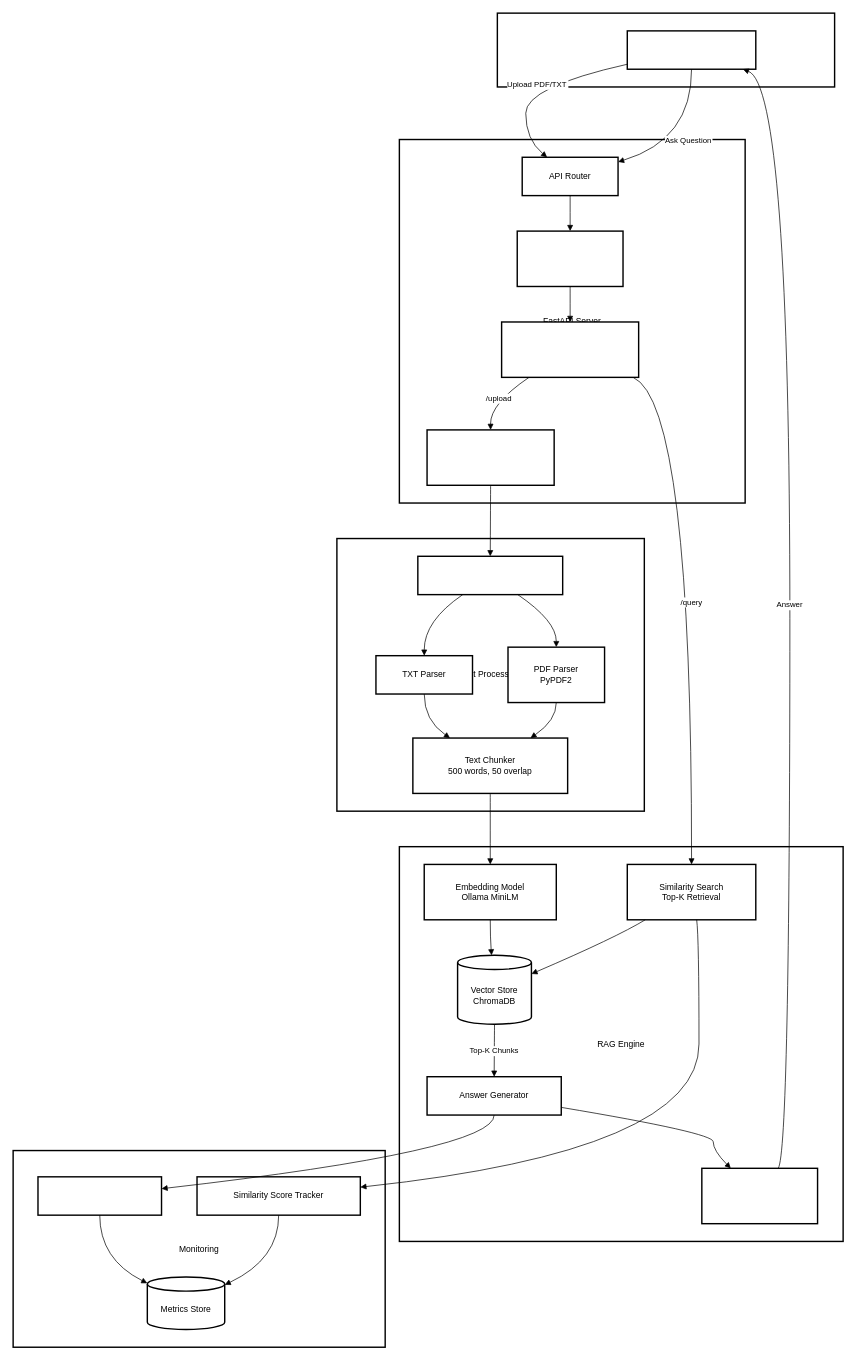
Some shapes in this 856 by 1360 pixel diagram are drawn without their labels. Each missing label, with the centre of its shape:
Background Jobs FastAPI Tasks: (490,457)
Document Processor: (490,575)
Latency Tracker: (99,1196)
LLM Ollama Mistral: (759,1195)
Rate Limiter slowapi: (569,258)
Request Validation Pydantic: (570,349)
User/Application: (691,50)
